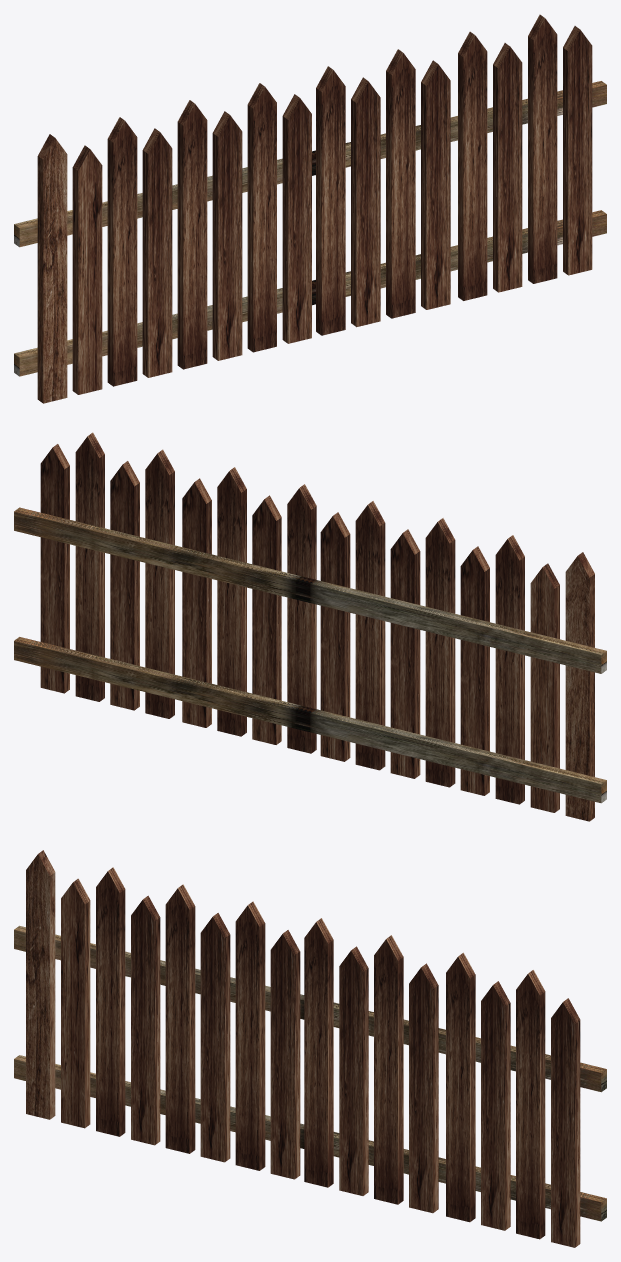
Rendered from Cerca_Diffuse.fbx.
The picture shows the model from 3 angles, top to bottom: view 1: azimuth 30°, elevation 25°; view 2: azimuth 150°, elevation 25°; view 3: azimuth 330°, elevation 25°; orthographic projection.
Parts seen in each view (by area): view 1: Cube; view 2: Cube; view 3: Cube.
Part boxes in pixels (x1,y1,x2,y2): Cube: [14, 14, 606, 403]; Cube: [14, 432, 606, 821]; Cube: [14, 850, 606, 1247].
Bounding box in the file's own units: 4.68 × 2 × 0.1581.
